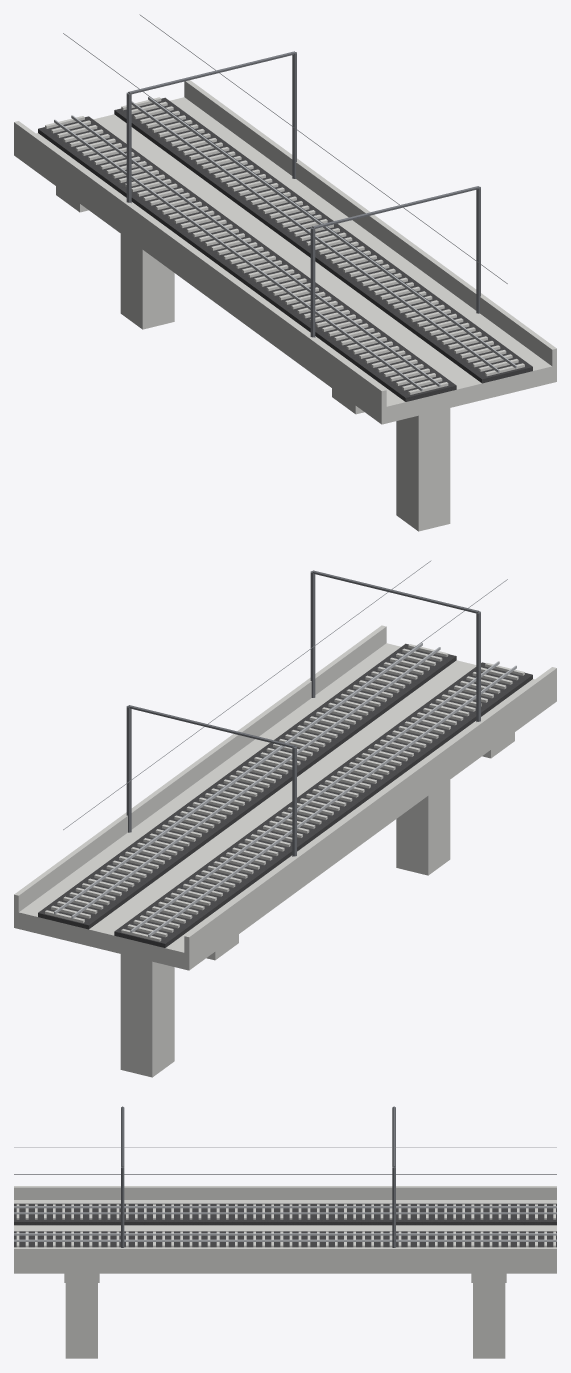
Rendered from rail_viaduct.glb.
3 views of the same model, one above another, from view 1: azimuth 30°, elevation 25°; view 2: azimuth 150°, elevation 25°; view 3: azimuth 270°, elevation 25° (orthographic). The views are drawn at different scales.
Parts seen in each view (by area): view 1: rail_viaduct; view 2: rail_viaduct; view 3: rail_viaduct.
Part boxes in pixels (bbox=[...]): rail_viaduct: bbox=[14, 14, 556, 531]; rail_viaduct: bbox=[14, 560, 556, 1077]; rail_viaduct: bbox=[14, 1106, 556, 1358].
Bounding box in the file's own units: 11 × 17.6 × 40.
4 materials, 1 textured.
